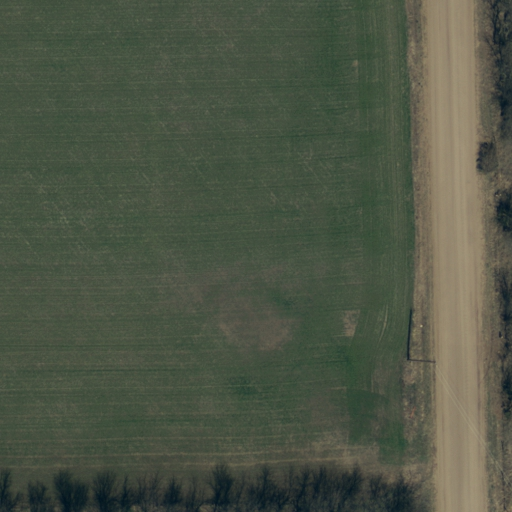DT: (403, 347, 440, 374)
